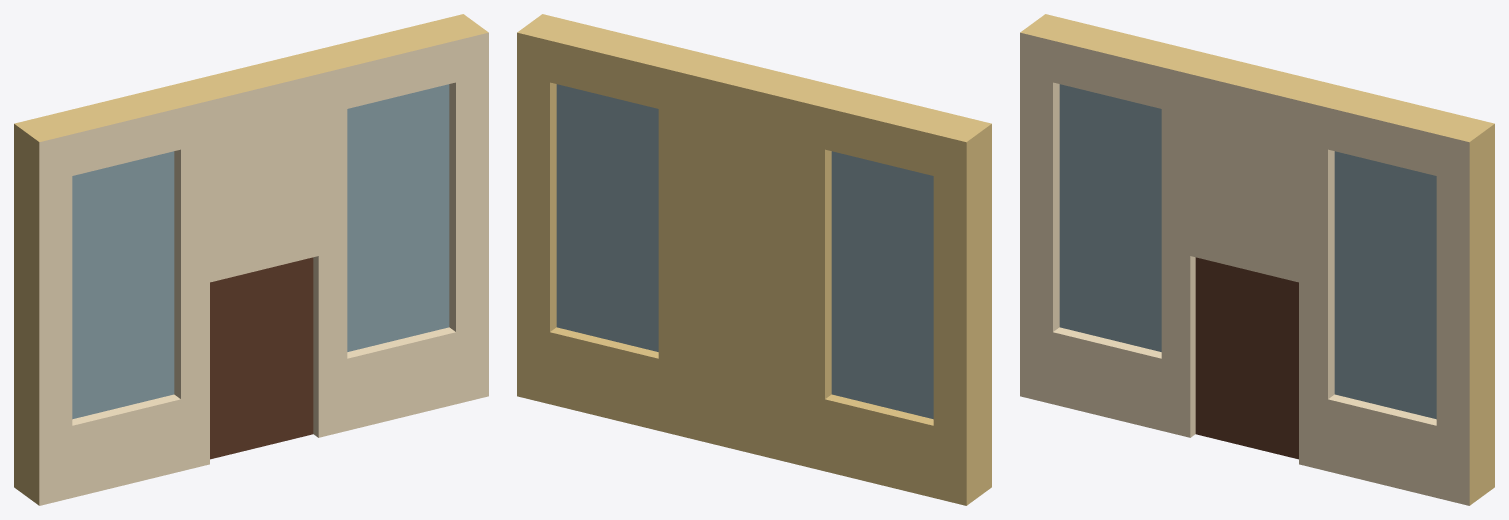
Rendered from SalleRandom_Mur02.fbx.
3 renders of one model, left to right at view 1: azimuth 30°, elevation 25°; view 2: azimuth 150°, elevation 25°; view 3: azimuth 330°, elevation 25°, orthographic.
Parts seen in each view (by area): view 1: Mur02; view 2: Mur02; view 3: Mur02.
Boxes of the visible parts, left/top/right/bottom form: Mur02: left=14, top=14, right=488, bottom=505; Mur02: left=517, top=14, right=991, bottom=505; Mur02: left=1020, top=14, right=1494, bottom=505.
Bounding box in the file's own units: 8.39 × 6.49 × 0.8215.
